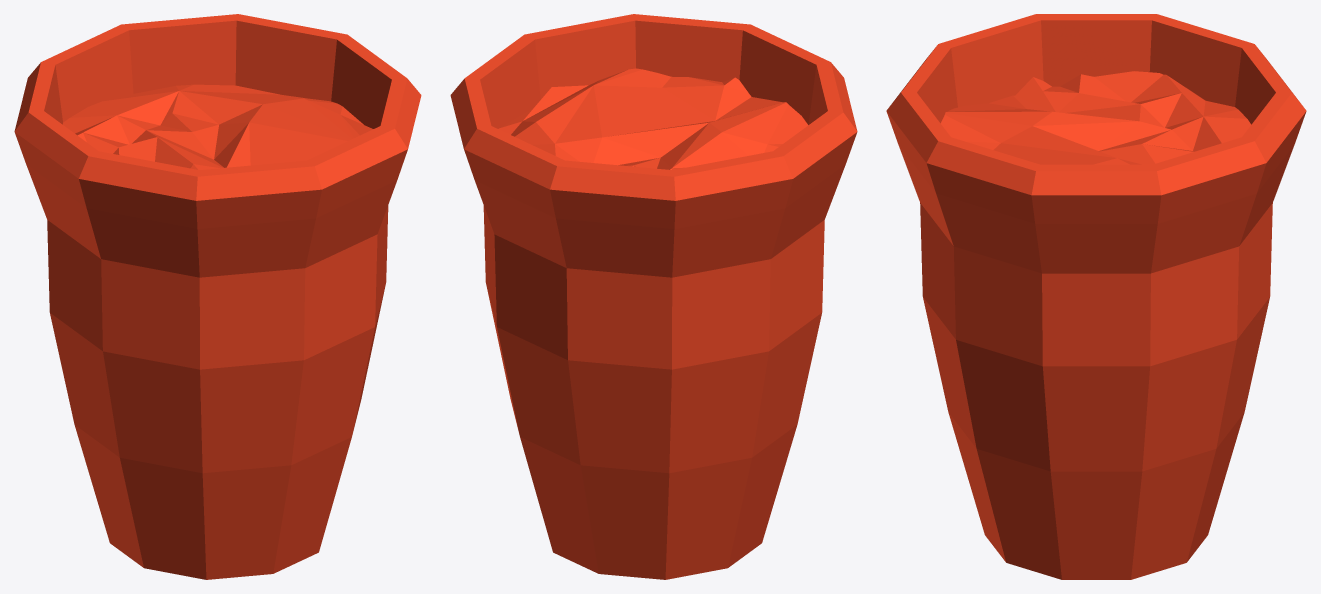
File: SM_Flowerpot_C.fbx
3 renders of one model, left to right at view 1: azimuth 30°, elevation 25°; view 2: azimuth 150°, elevation 25°; view 3: azimuth 270°, elevation 25°, orthographic.
Parts seen in each view (by area): view 1: SM_Flowerpot_C; view 2: SM_Flowerpot_C; view 3: SM_Flowerpot_C.
Part boxes in pixels (left/top/right/bottom): SM_Flowerpot_C: left=14, top=14, right=421, bottom=579; SM_Flowerpot_C: left=450, top=14, right=857, bottom=579; SM_Flowerpot_C: left=886, top=14, right=1306, bottom=579.
Bounding box in the file's own units: 0.5735 × 0.7005 × 0.603.
